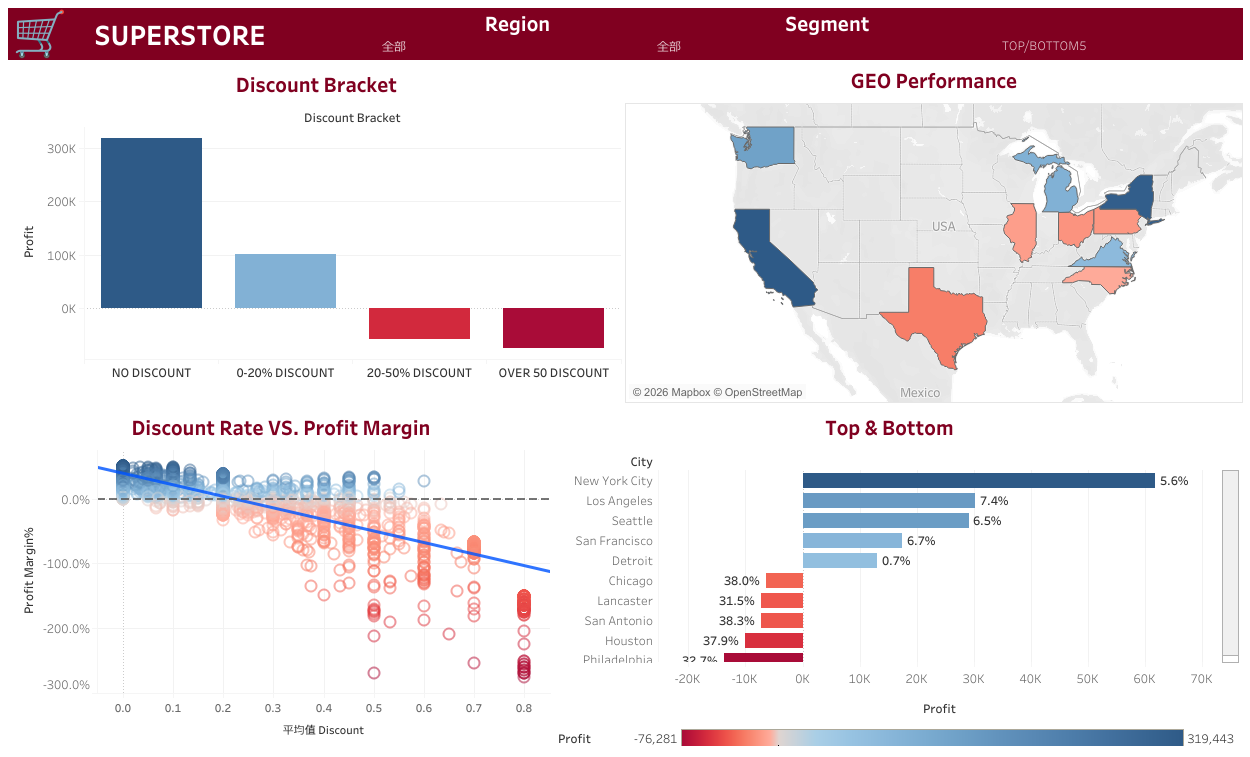

The page's visual inventory and layout, read from the dashboard file:
{"tool":"tableau","page":{"name":"Sales","canvas":[1000,1000],"units":"permille","ordinal":2},"visuals":[{"type":"image","param":"Image/shopping-cart_1f6d2.png","box":[5.2,8.4,51.4,68.5]},{"type":"text","box":[56.6,8.4,246.5,68.5]},{"type":"filter","title":"Discount Rate VS. Profit Margin Scatter Plot","param":"[federated.1bmkp591ttn1uk1fxnozp0wfu9q8].[none:Region:nk]","box":[303,8.4,220.7,68.5]},{"type":"filter","title":"Discount Rate VS. Profit Margin Scatter Plot","param":"[federated.1bmkp591ttn1uk1fxnozp0wfu9q8].[none:Segment:nk]","box":[523.8,8.4,276.7,68.5]},{"type":"parameter","param":"[Parameters].[參數 1]","box":[800.5,8.4,194.3,68.5]},{"type":"worksheet","title":"Discount Bracket","mark":"Bar","rows":["Profit"],"cols":["Calculation_0115197784932352"],"box":[5.2,76.9,494.8,455]},{"type":"worksheet","title":"GEO PERformance","mark":"Multipolygon","box":[500,76.9,494.8,455]},{"type":"worksheet","title":"Discount Rate VS. Profit Margin Scatter Plot","mark":"Automatic","rows":["Calculation_1141316836737024"],"cols":["Discount"],"box":[5.2,531.9,437.7,459.7]},{"type":"worksheet","title":"TOP&BOTTOM","mark":"Automatic","rows":["City"],"cols":["Profit"],"box":[442.9,531.9,551.9,421.9]},{"type":"legend","title":"Discount Bracket","param":"[federated.1bmkp591ttn1uk1fxnozp0wfu9q8].[sum:Profit:qk]","box":[442.9,953.8,551.9,37.9]}]}

Visuals, with their boxes on the dashboard's canvas, which has no fixed pixel size, in thousandths of its width and height (x1, y1, x2, y2). These are canvas units, not pixel positions in the 1250x757 screenshot, which may show the page scaled, cropped or inside an application window:
image: Rect(5, 8, 57, 77)
text: Rect(57, 8, 303, 77)
"Discount Rate VS. Profit Margin Scatter Plot" filter: Rect(303, 8, 524, 77)
"Discount Rate VS. Profit Margin Scatter Plot" filter: Rect(524, 8, 800, 77)
parameter: Rect(800, 8, 995, 77)
"Discount Bracket" worksheet (Bar marks): Rect(5, 77, 500, 532)
"GEO PERformance" worksheet (Multipolygon marks): Rect(500, 77, 995, 532)
"Discount Rate VS. Profit Margin Scatter Plot" worksheet: Rect(5, 532, 443, 992)
"TOP&BOTTOM" worksheet: Rect(443, 532, 995, 954)
"Discount Bracket" legend: Rect(443, 954, 995, 992)
